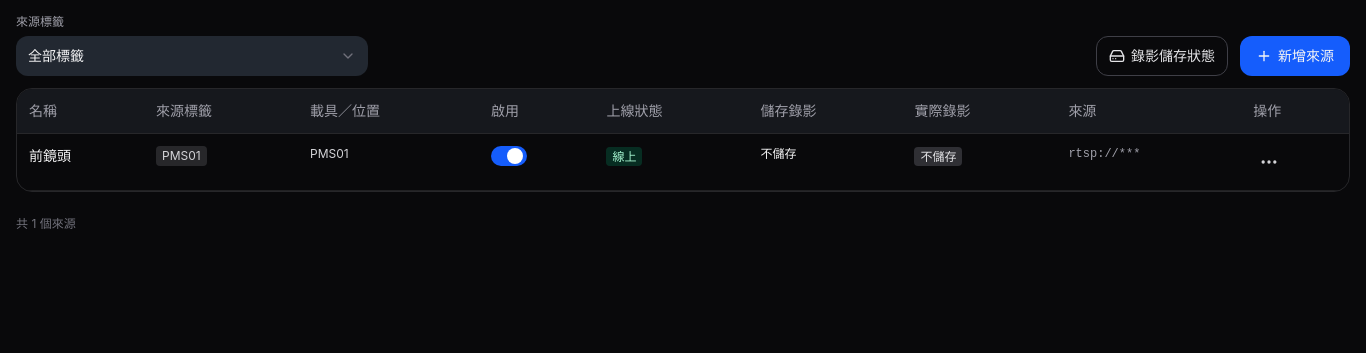
Test: 影像資源列操作 › 每列只顯示單一操作按鈕，選單提供四個既有動作
Expected: the text "查看影像紀錄" is not shown
Click the button named "前鏡頭 操作" at {"x": 1269, "y": 162}, box [1253,146,1285,178]
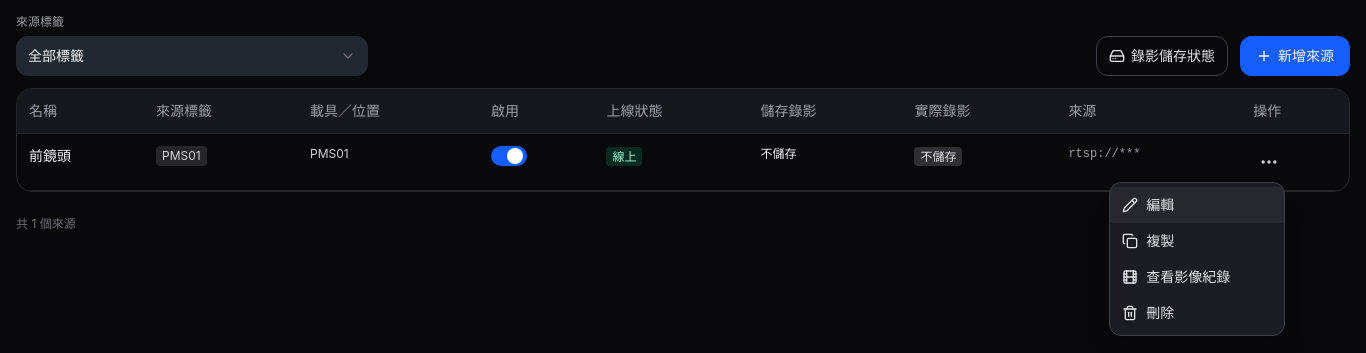
Now the menu shows "編輯", box [1110,187,1284,223]
Now the menu shows "複製", box [1110,223,1284,259]
Now the menu shows "查看影像紀錄", box [1110,259,1284,295]
